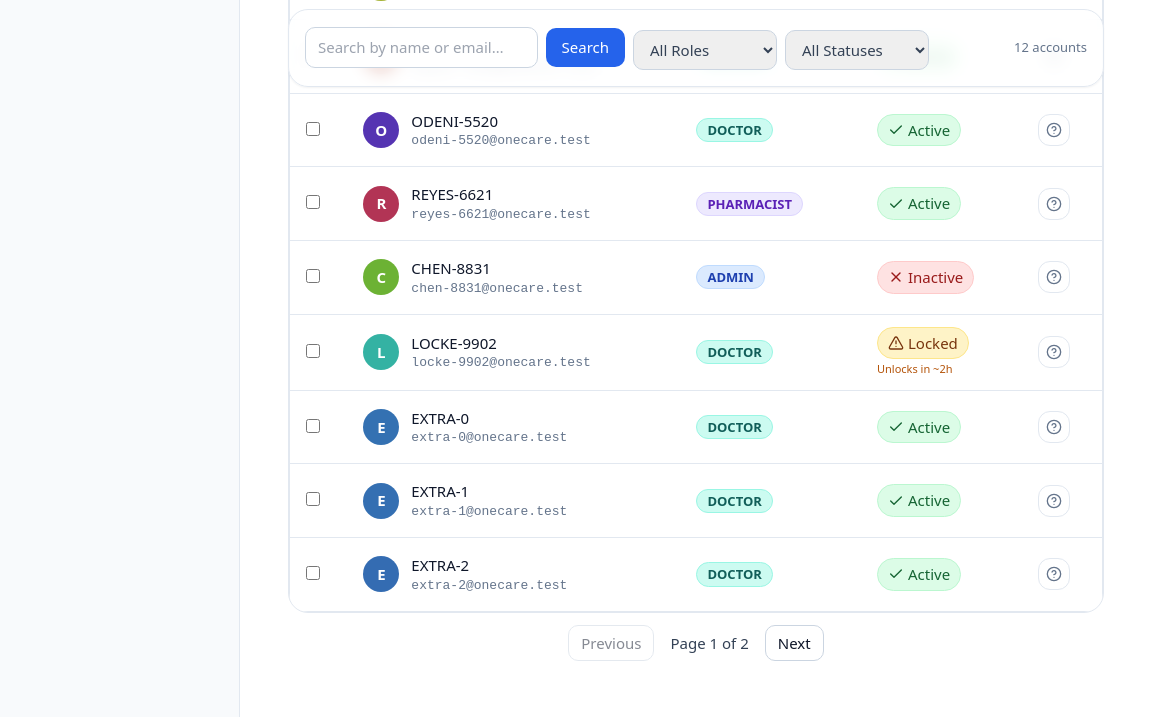
Test: super-admin user management — REST cases › pages the directory client-side
The image size is (1152, 717).
(page scrolled)
Expected: the navigation bar "Page 1 of 2" is shown, top-left (568, 625), bottom-right (824, 661)
Click the button "Next": (794, 643) top-left (765, 625), bottom-right (824, 661)
(page scrolled)
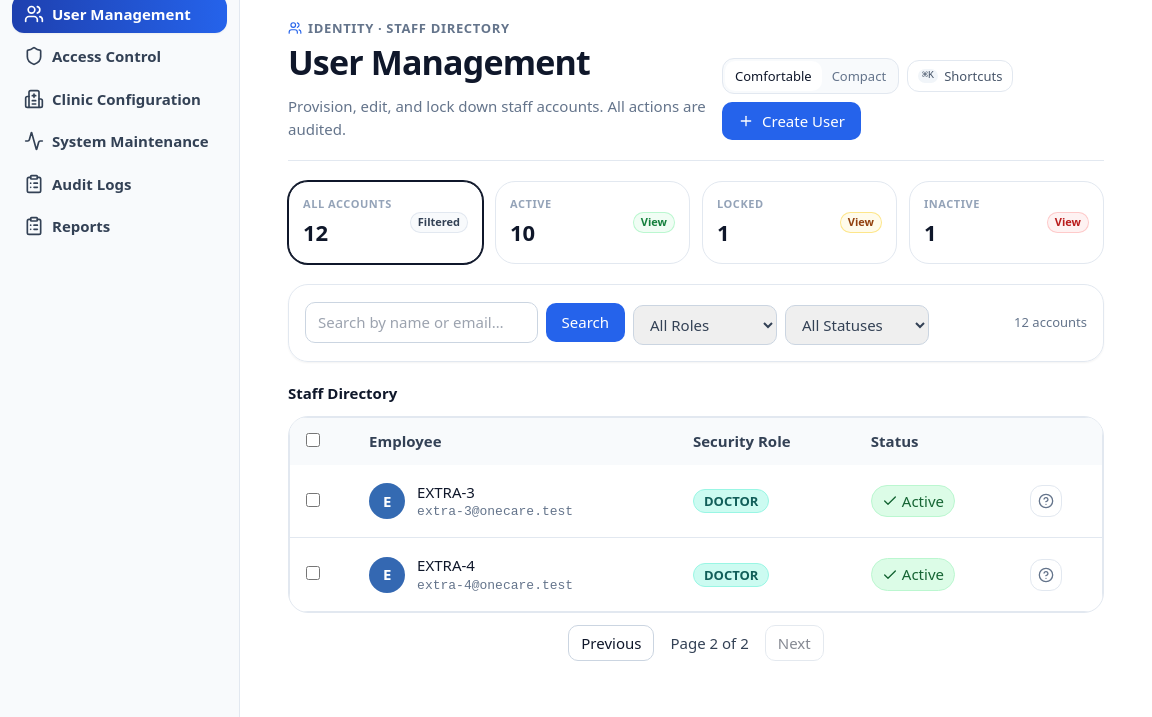
Expected: the text "vance-1102" is not shown
Now the navigation bar "Page 2 of 2" is shown, box top-left (568, 625), bottom-right (824, 662)
Now the text "EXTRA-4" is shown, box top-left (417, 555), bottom-right (475, 575)
